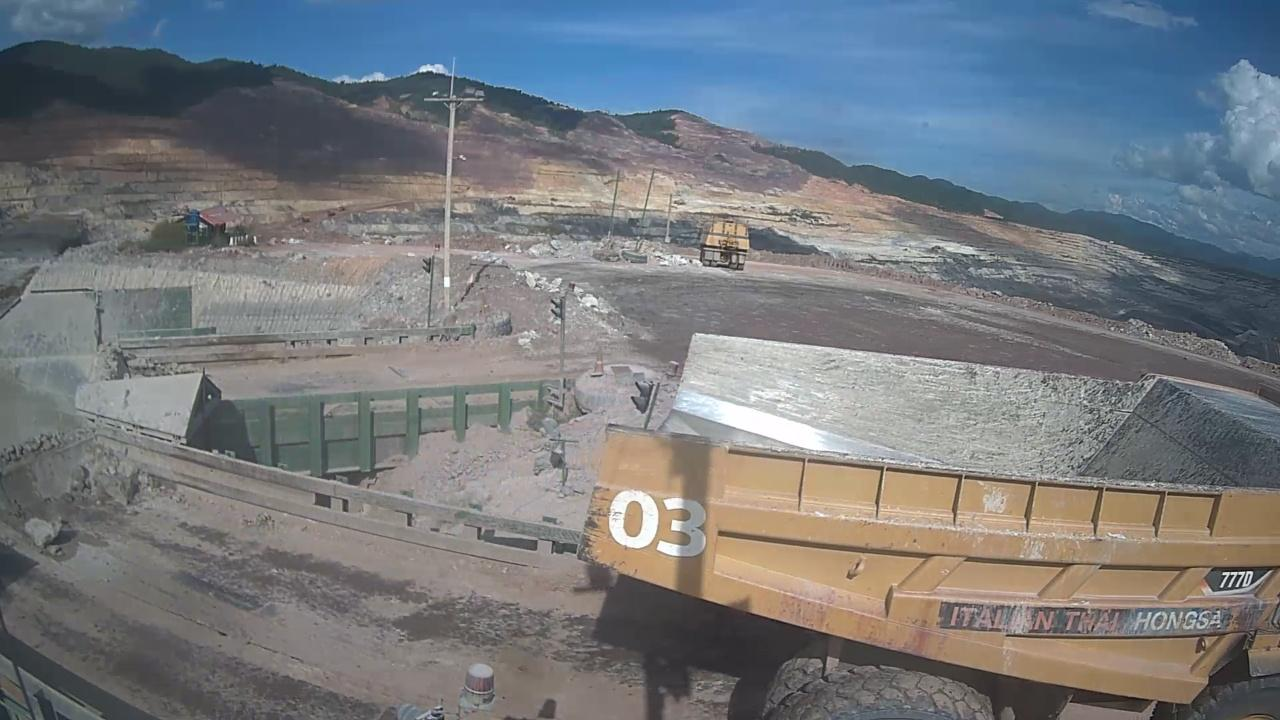company: (934, 599, 1271, 660)
empty_load: (741, 339, 1254, 481)
mining_truck: (575, 330, 1278, 717)
tail_number: (596, 483, 724, 570)
truck_size: (1201, 557, 1264, 596)
